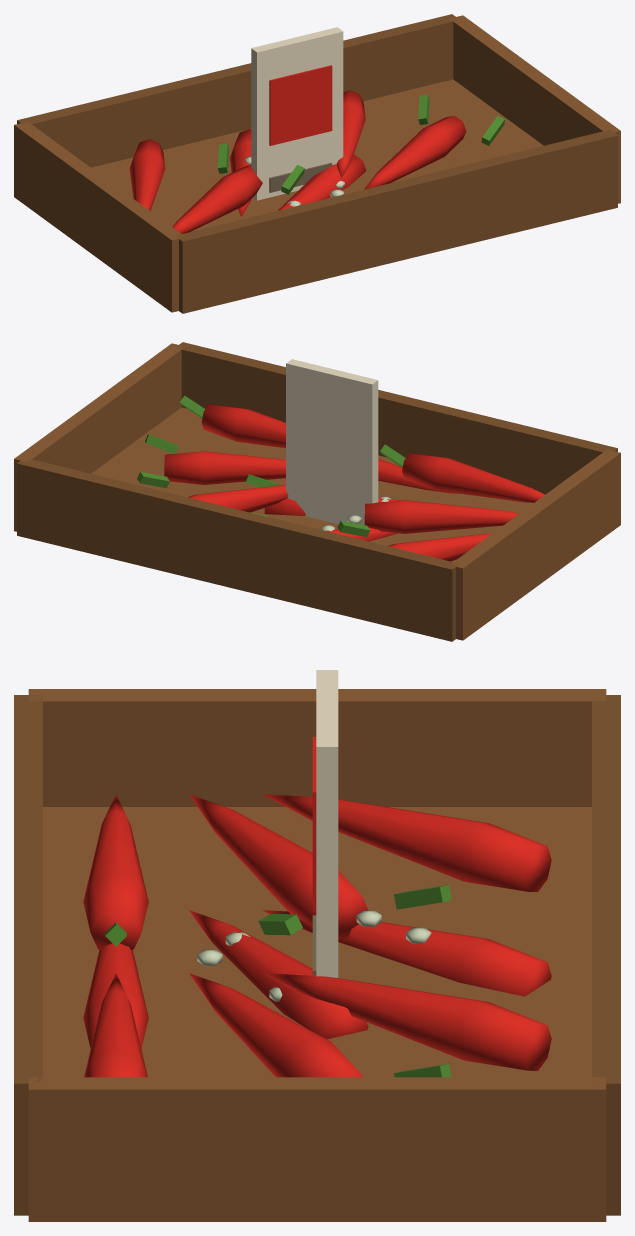
The model's file is Veg_ChiliPepper.fbx.
The picture shows the model from 3 angles, top to bottom: view 1: azimuth 30°, elevation 25°; view 2: azimuth 150°, elevation 25°; view 3: azimuth 270°, elevation 25°; orthographic projection. The views are drawn at different scales.
Parts seen in each view (by area): view 1: Veg_ChiliPepper__Stack, Veg_ChiliPepper__Seed, Veg_ChiliPepper; view 2: Veg_ChiliPepper__Stack, Veg_ChiliPepper__Seed, Veg_ChiliPepper; view 3: Veg_ChiliPepper__Stack, Veg_ChiliPepper, Veg_ChiliPepper__Seed, Veg_ChiliPepper__Rotten.
Part boxes in pixels (x1,y1,x2,y2): Veg_ChiliPepper__Stack: (14, 14, 620, 313); Veg_ChiliPepper__Seed: (251, 27, 343, 200); Veg_ChiliPepper: (230, 129, 366, 216); Veg_ChiliPepper__Stack: (14, 342, 620, 641); Veg_ChiliPepper__Seed: (286, 359, 378, 524); Veg_ChiliPepper: (245, 459, 458, 541); Veg_ChiliPepper__Stack: (14, 689, 620, 1221); Veg_ChiliPepper: (83, 910, 551, 1048); Veg_ChiliPepper__Seed: (312, 670, 338, 977); Veg_ChiliPepper__Rotten: (197, 910, 431, 1001).
Size of the model in its own units: 0.2602 by 0.09 by 0.1665.
